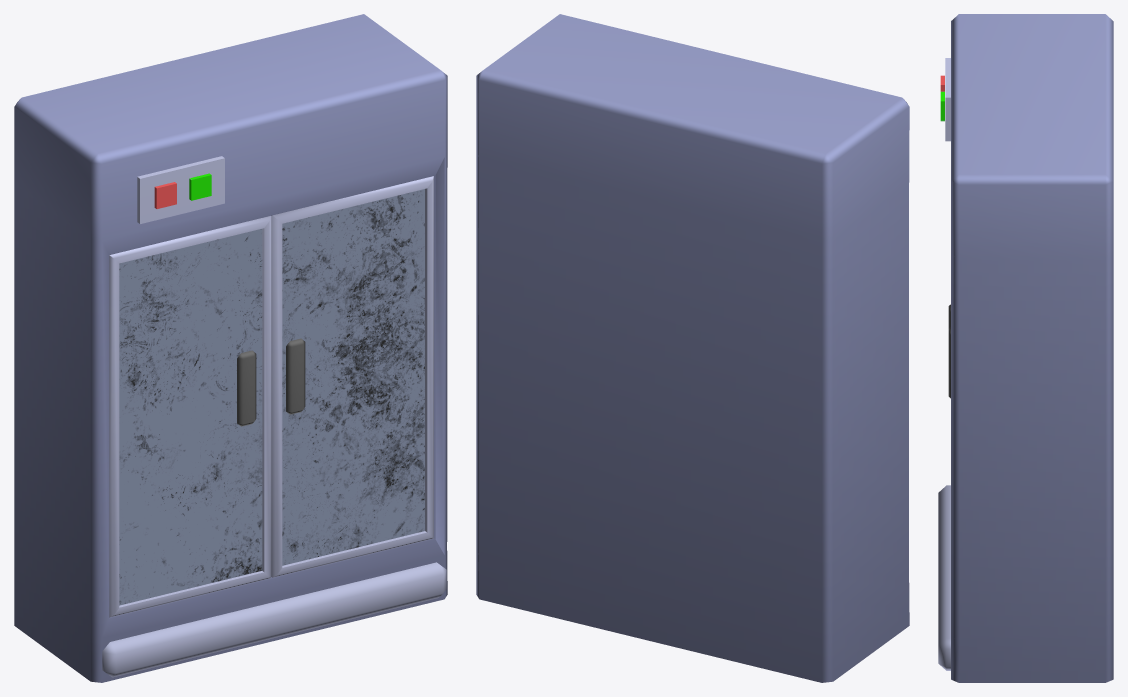
File: Fridge.fbx
3 renders of one model, left to right at view 1: azimuth 30°, elevation 25°; view 2: azimuth 150°, elevation 25°; view 3: azimuth 270°, elevation 25°, orthographic. The views are drawn at different scales.
Parts seen in each view (by area): view 1: Fridge, Fridge_Door_right, Fridge_Door_left; view 2: Fridge; view 3: Fridge.
Boxes of the visible parts, x1,y1,x2,y2 form: Fridge: [14, 14, 447, 682]; Fridge_Door_right: [109, 216, 271, 617]; Fridge_Door_left: [271, 176, 433, 577]; Fridge: [476, 14, 909, 682]; Fridge: [938, 14, 1113, 682].
Bounding box in the file's own units: 177 × 250 × 78.39.
